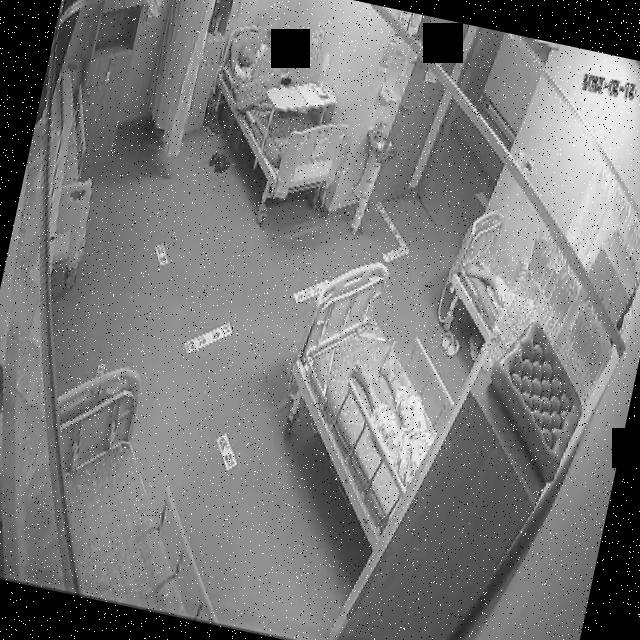bed: (18, 351, 266, 625), (262, 251, 468, 550), (196, 20, 364, 208), (437, 204, 527, 344)
lie: (332, 332, 455, 492), (220, 31, 319, 130)
patient: (333, 332, 454, 492), (228, 32, 274, 89)
